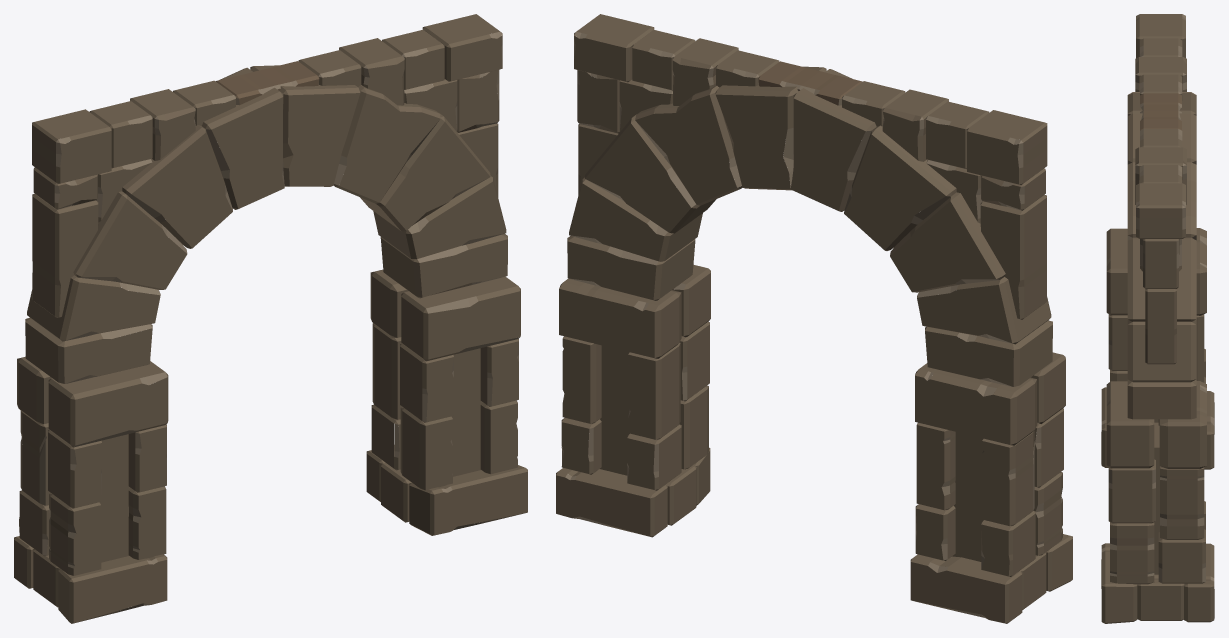
The model's file is Arch-transformed.glb.
3 renders of one model, left to right at view 1: azimuth 30°, elevation 25°; view 2: azimuth 150°, elevation 25°; view 3: azimuth 270°, elevation 25°, orthographic. The views are drawn at different scales.
Visible parts, largest first — view 1: Arch; view 2: Arch; view 3: Arch.
Part boxes in pixels (<box>): Arch: <box>14,14,527,623</box>; Arch: <box>556,14,1072,623</box>; Arch: <box>1101,14,1214,623</box>.
Bounding box in the file's own units: 4.1 × 4.01 × 0.9927.
